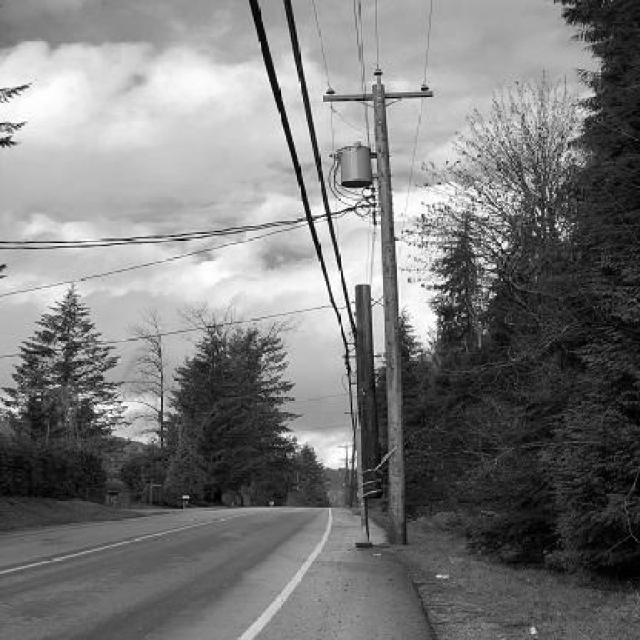Pole: (373, 81, 405, 543), (355, 284, 379, 468)
